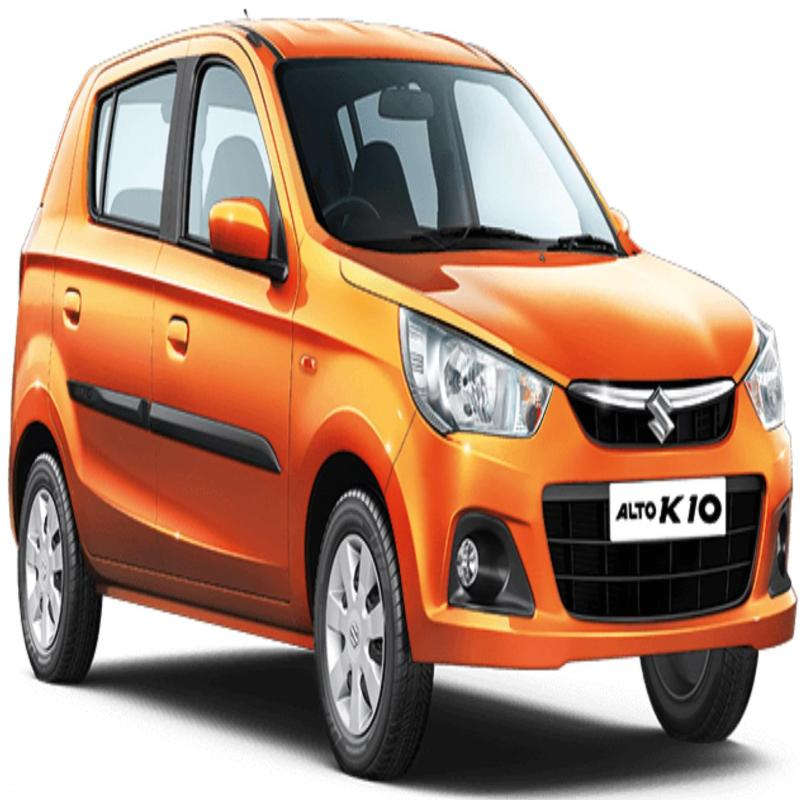car: (16, 34, 790, 760)
